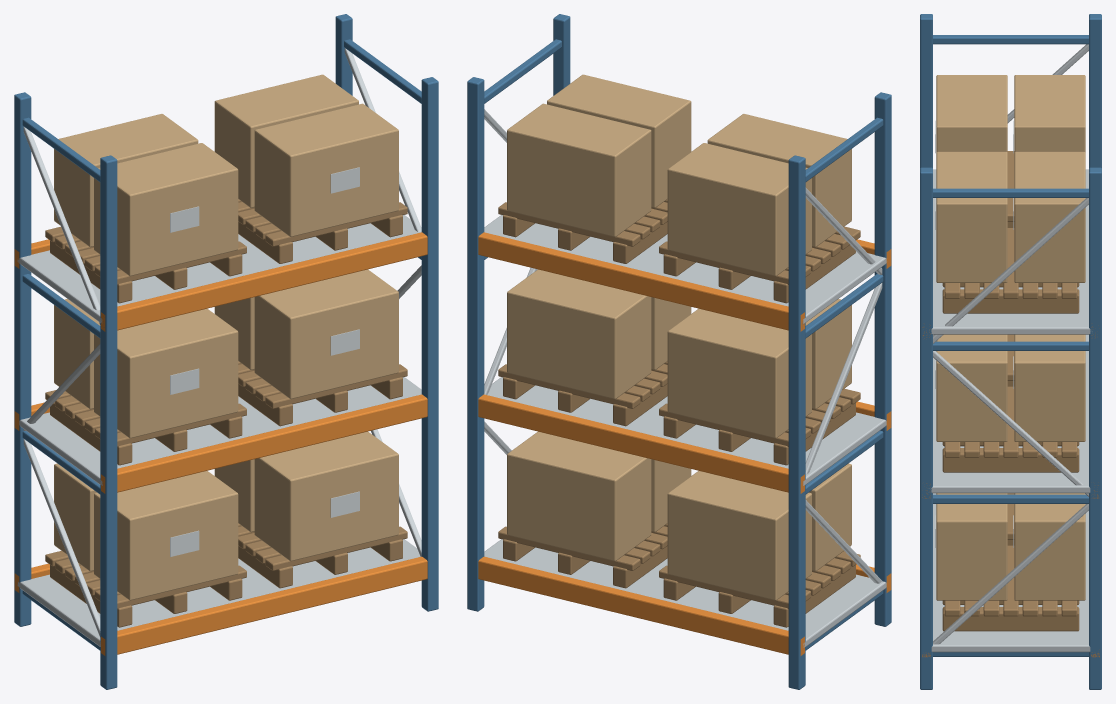
The model's file is warehouse-rack.glb.
3 renders of one model, left to right at view 1: azimuth 30°, elevation 25°; view 2: azimuth 150°, elevation 25°; view 3: azimuth 270°, elevation 25°, orthographic. The views are drawn at different scales.
Visible parts, largest first — view 1: Perforated upright; view 2: Perforated upright; view 3: Perforated upright.
Boxes of the visible parts, <box> form: Perforated upright: <box>14,14,438,689</box>; Perforated upright: <box>467,14,891,689</box>; Perforated upright: <box>920,14,1101,689</box>.
Bounding box in the file's own units: 2.9 × 4.4 × 1.4.
